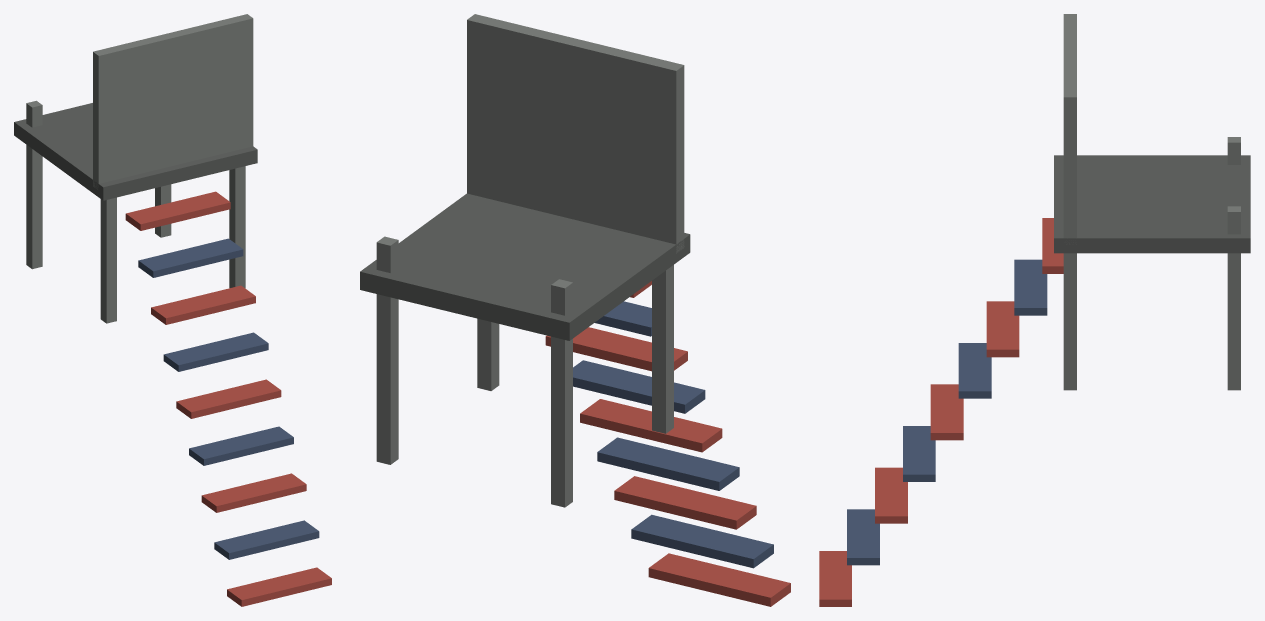
Rendered from p_slide.glb.
3 renders of one model, left to right at view 1: azimuth 30°, elevation 25°; view 2: azimuth 150°, elevation 25°; view 3: azimuth 270°, elevation 25°, orthographic. The views are drawn at different scales.
Visible parts, largest first — view 1: body; view 2: body; view 3: body.
Part boxes in pixels (x1=…): body: x1=14, y1=14, x2=331, y2=606; body: x1=360, y1=14, x2=790, y2=606; body: x1=819, y1=14, x2=1250, y2=606.
Size of the model in its own units: 1.2 by 3.54 by 2.63.
